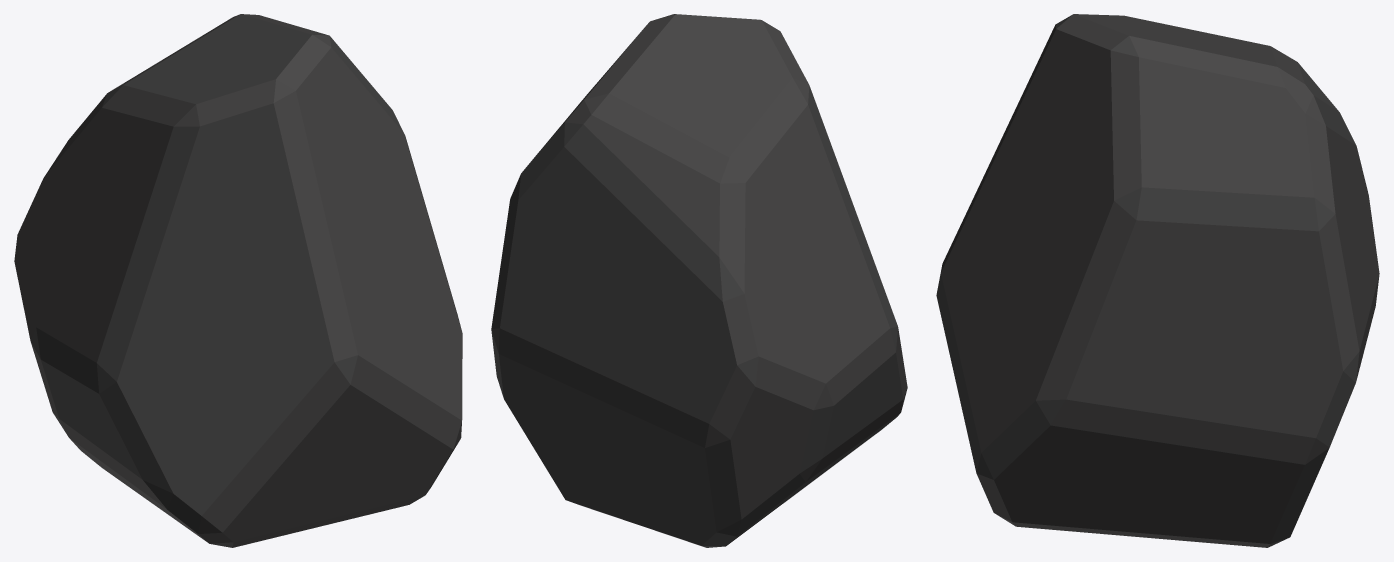
The model's file is Rock_001.fbx.
The picture shows the model from 3 angles, left to right: view 1: azimuth 30°, elevation 25°; view 2: azimuth 150°, elevation 25°; view 3: azimuth 270°, elevation 25°; orthographic projection. The views are drawn at different scales.
Visible parts, largest first — view 1: Rock; view 2: Rock; view 3: Rock.
Part boxes in pixels (x1=…): Rock: x1=14, y1=14, x2=462, y2=547; Rock: x1=491, y1=14, x2=907, y2=547; Rock: x1=936, y1=14, x2=1379, y2=547.
Bounding box in the file's own units: 129 × 172 × 139.
